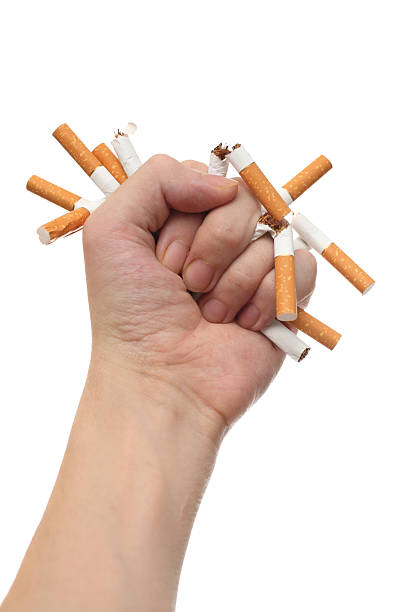cigarette: (291, 211, 376, 297), (225, 141, 294, 224), (49, 121, 120, 197), (264, 154, 333, 216), (35, 199, 107, 246), (273, 222, 298, 323), (25, 174, 87, 212), (290, 307, 343, 351), (262, 317, 311, 362), (90, 141, 128, 186), (111, 132, 143, 179), (205, 139, 231, 182), (248, 212, 278, 246)
